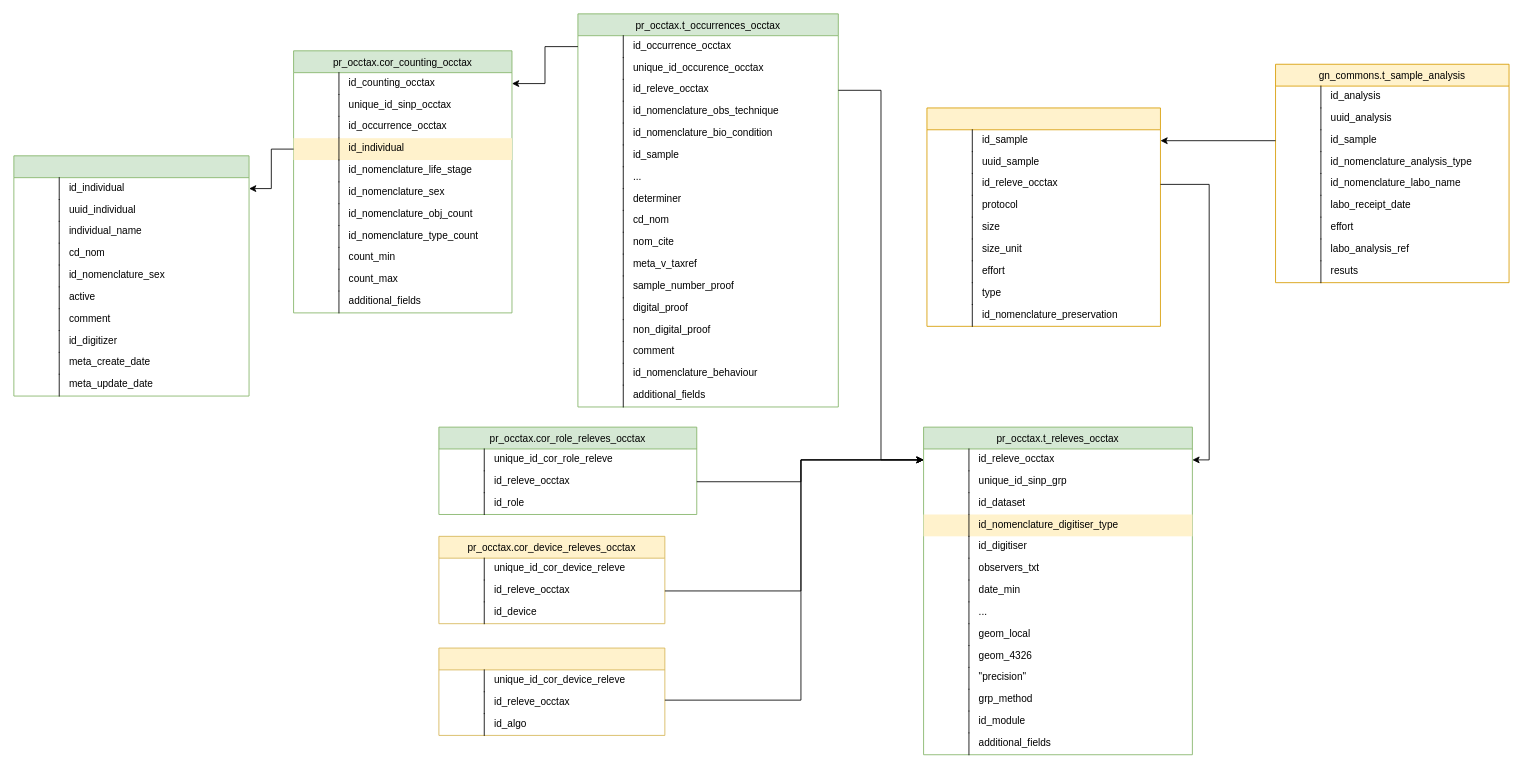
The diagram is 1523 pixels wide and 769 high, and some of its shapes have lost their labels. Each missing label, with the box of its shape:
gn_commons.t_sample: (926, 107, 1160, 326)
gn_monitoring.t_individual: (13, 155, 249, 396)
pr_occtax.cor_algo_releves_occtax: (438, 647, 665, 735)
